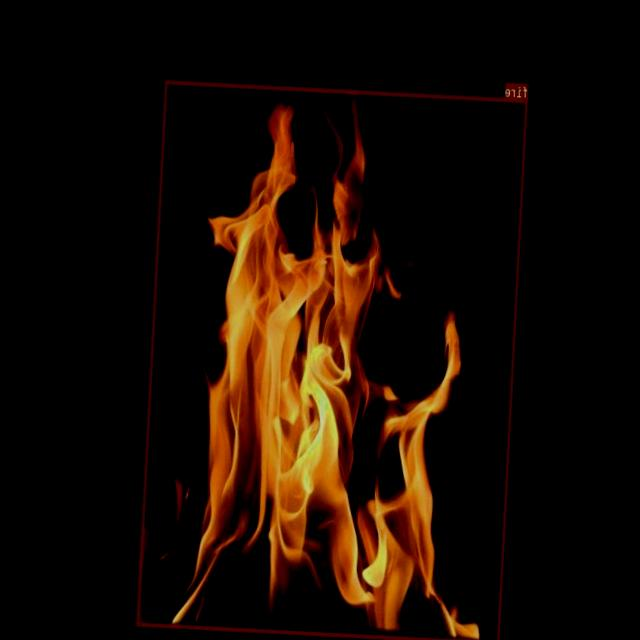fire: (137, 79, 529, 640)
